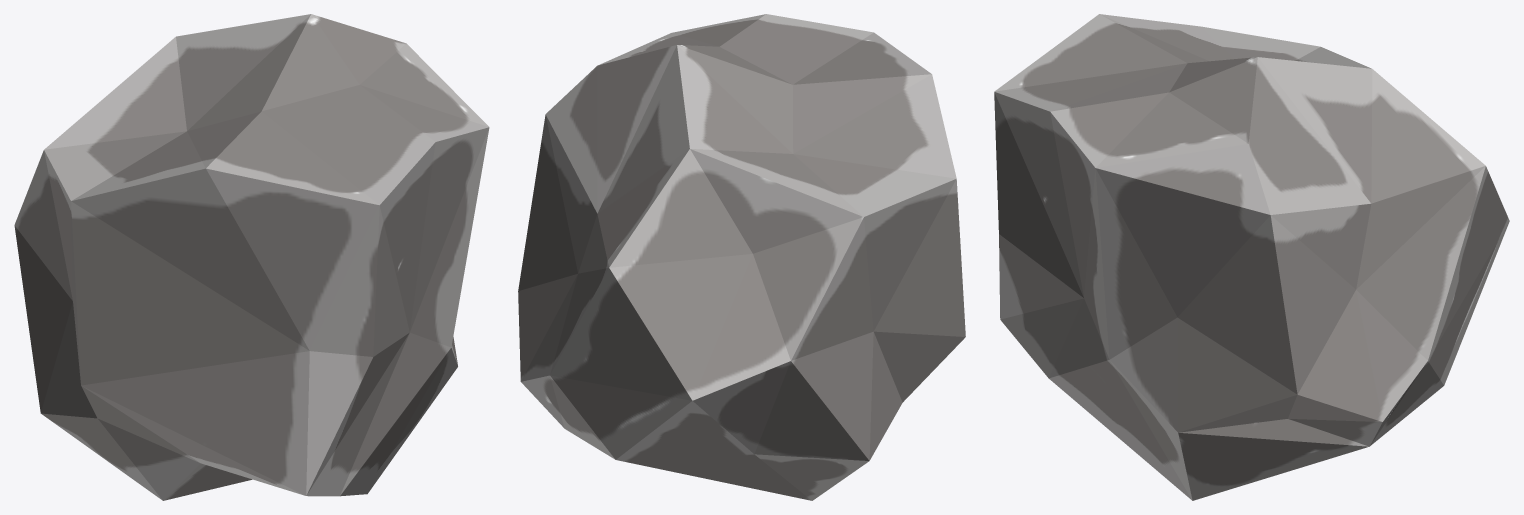
The model's file is P_Rock_2.fbx.
3 renders of one model, left to right at view 1: azimuth 30°, elevation 25°; view 2: azimuth 150°, elevation 25°; view 3: azimuth 270°, elevation 25°, orthographic. The views are drawn at different scales.
Parts seen in each view (by area): view 1: Cube.001; view 2: Cube.001; view 3: Cube.001.
Part boxes in pixels (bbox=[...]): Cube.001: bbox=[14, 14, 489, 500]; Cube.001: bbox=[518, 14, 965, 500]; Cube.001: bbox=[994, 14, 1509, 500].
Size of the model in its own units: 62 by 65 by 70.
